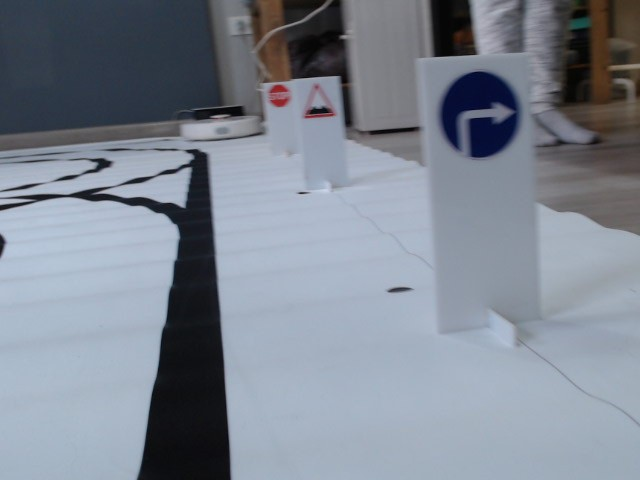Nerov: (303, 83, 337, 118)
Right: (439, 69, 521, 159)
Stop: (267, 84, 290, 108)
